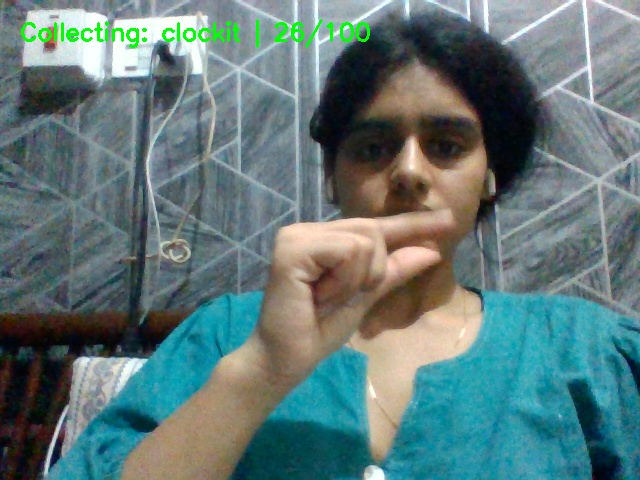clockit: (254, 203, 469, 373)
